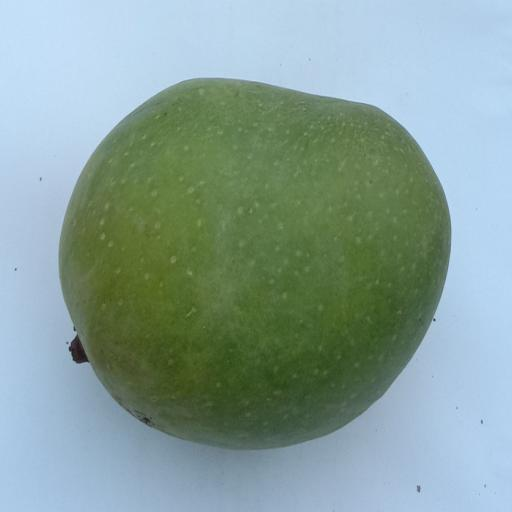mango-unripe: (39, 48, 468, 474)
